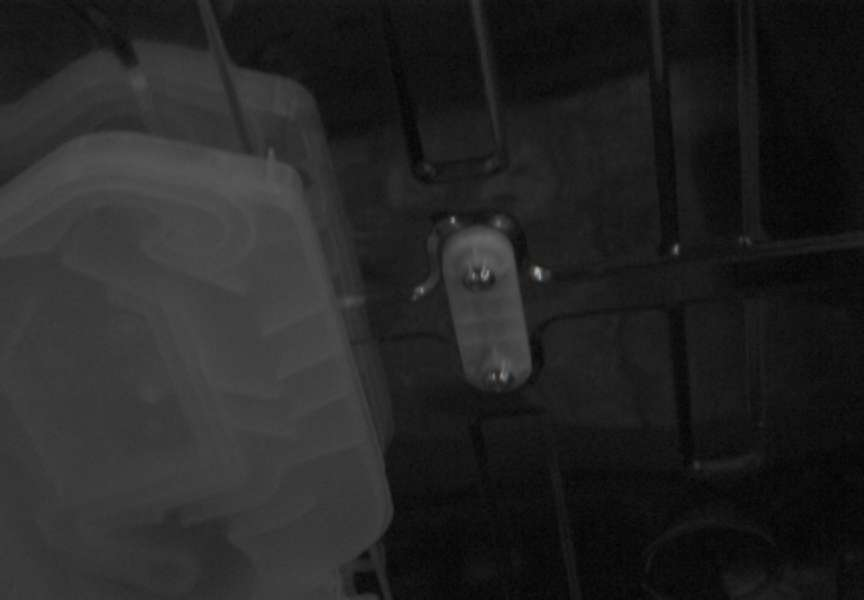screw: (463, 264, 496, 292), (483, 367, 515, 392)
